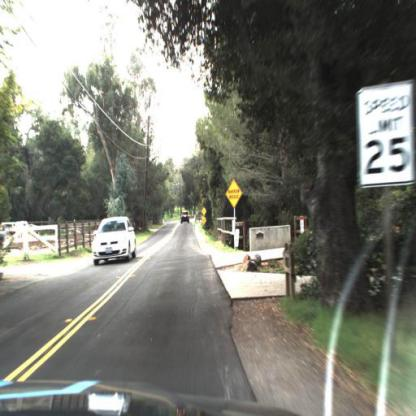car: (91, 215, 138, 266), (180, 209, 192, 225)
